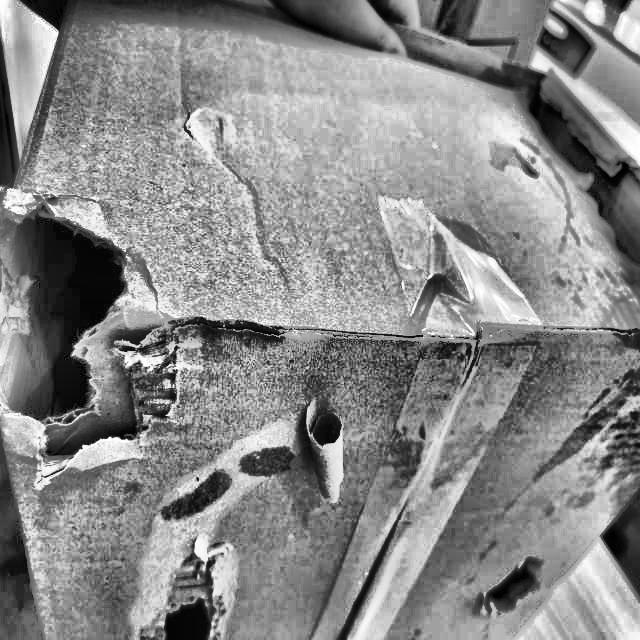box: (5, 0, 640, 640)
hole: (4, 222, 142, 430), (472, 550, 546, 623), (153, 594, 227, 640)
